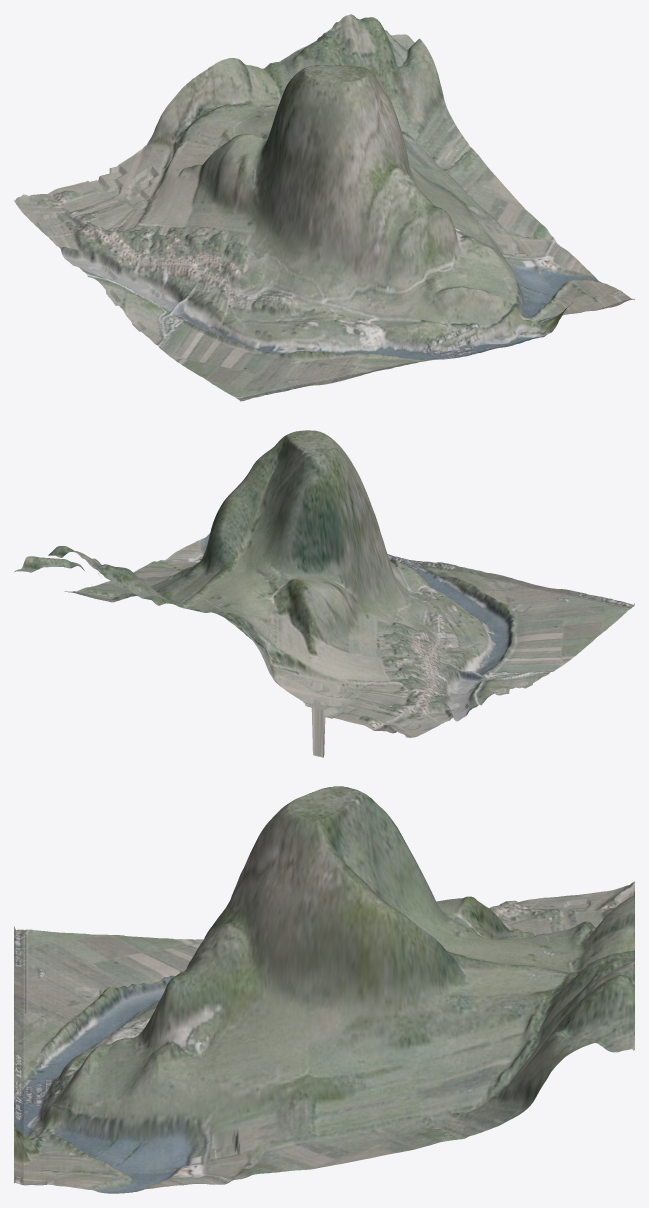
File: dsm_1bd47edb44_mesh.glb
The picture shows the model from 3 angles, top to bottom: view 1: azimuth 30°, elevation 25°; view 2: azimuth 150°, elevation 25°; view 3: azimuth 270°, elevation 25°; orthographic projection. The views are drawn at different scales.
Visible parts, largest first — view 1: geometry_0; view 2: geometry_0; view 3: geometry_0.
Boxes of the visible parts, x1,y1,x2,y2 form: geometry_0: (14, 14, 634, 401); geometry_0: (14, 430, 634, 757); geometry_0: (14, 786, 634, 1193).
Size of the model in its own units: 2 by 1 by 2.
